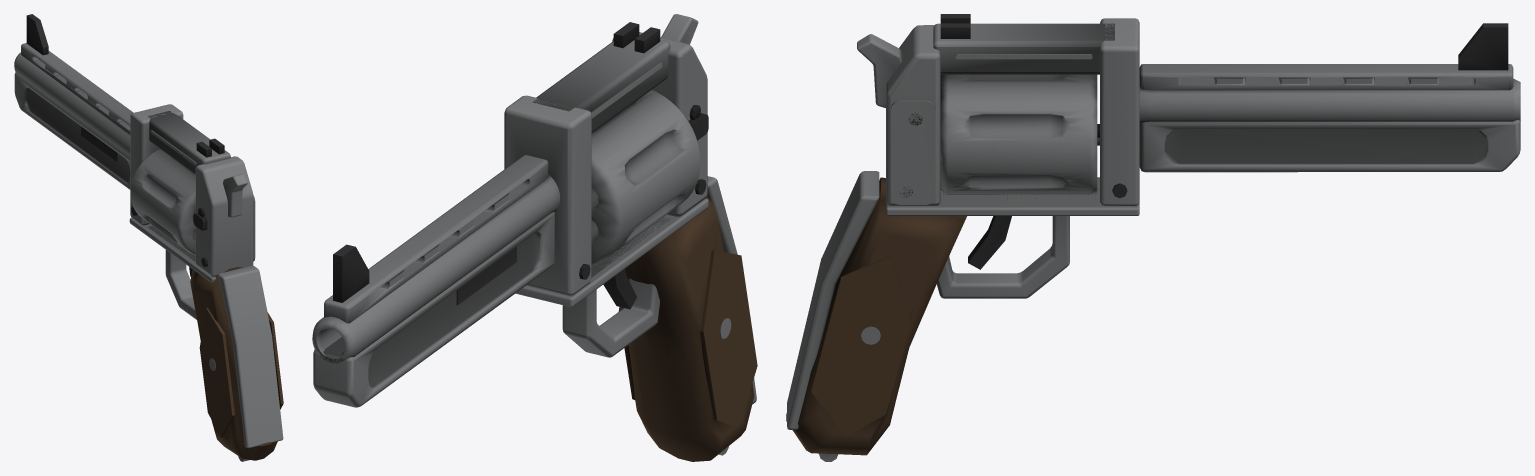
The model's file is hollis_44.glb.
3 views of the same model, side by side, from view 1: azimuth 30°, elevation 25°; view 2: azimuth 150°, elevation 25°; view 3: azimuth 270°, elevation 25° (orthographic). The views are drawn at different scales.
Parts seen in each view (by area): view 1: Receiver, Grip, Bolt; view 2: Receiver, Grip, Trigger, Bolt; view 3: Receiver, Grip, Bolt, Trigger.
Part boxes in pixels (x1,y1,x2,y2): Receiver: [14, 14, 255, 319]; Grip: [190, 265, 283, 461]; Bolt: [223, 174, 247, 217]; Receiver: [312, 22, 708, 407]; Grip: [618, 176, 757, 461]; Trigger: [603, 269, 636, 309]; Bolt: [661, 14, 698, 44]; Receiver: [886, 14, 1520, 298]; Grip: [786, 171, 966, 461]; Bolt: [857, 34, 902, 107]; Trigger: [968, 216, 1011, 269].
Bounding box in the file's own units: 0.051 × 0.1918 × 0.295.
